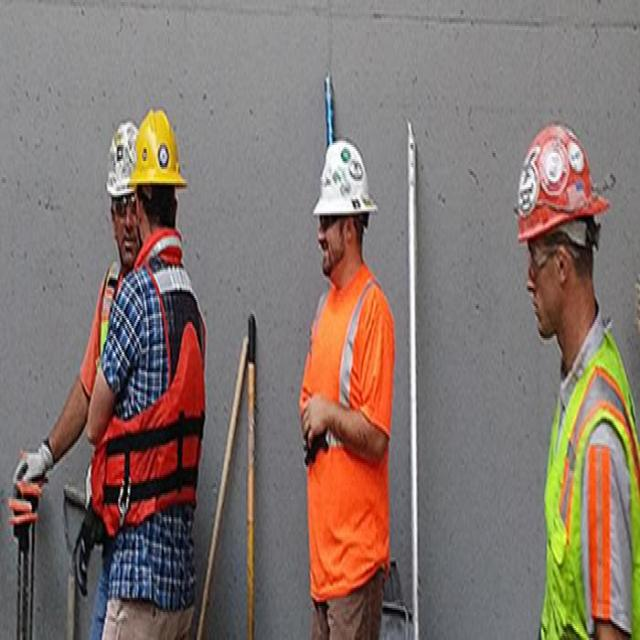Reflective-Jacket: (78, 252, 206, 550), (537, 334, 640, 638), (300, 270, 396, 578)
Safety-Helmet: (510, 110, 612, 248), (312, 129, 379, 227), (126, 99, 188, 195)
